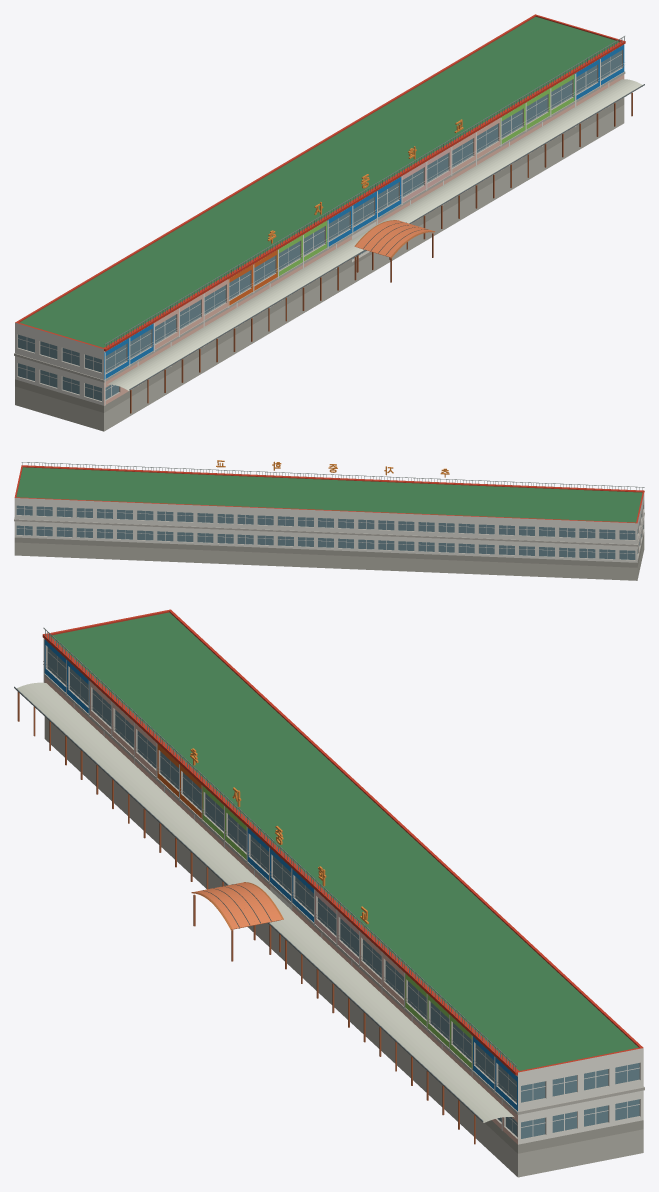
The picture shows the model from 3 angles, top to bottom: view 1: azimuth 30°, elevation 25°; view 2: azimuth 150°, elevation 25°; view 3: azimuth 270°, elevation 25°; orthographic projection. The views are drawn at different scales.
Visible parts, largest first — view 1: wing1__roof, chuja__retaining-concrete, wing1__glass, chuja__canopy-sheet, wing1__base-stone, wing1__trim-concrete, wing1__front-panel-peach, wing1__frame, wing1__wall-plaster, wing1__parapet-concrete, chuja__roof-edge, wing1__front-panel-blue (+7 smaller); view 2: wing1__roof, wing1__wall-plaster, wing1__glass, chuja__retaining-concrete, wing1__base-stone, wing1__trim-concrete, wing1__parapet-concrete, wing1__frame, chuja__roof-railing, chuja__roof-edge, chuja__roof-school-letters; view 3: wing1__roof, chuja__canopy-sheet, wing1__glass, chuja__retaining-concrete, wing1__wall-plaster, wing1__trim-concrete, wing1__parapet-concrete, wing1__front-panel-peach, wing1__frame, chuja__roof-edge, chuja__roof-railing, chuja__arch-membrane (+5 smaller).
Part boxes in pixels (x1,y1,x2,y2): wing1__roof: (19, 17, 619, 347); chuja__retaining-concrete: (15, 105, 624, 431); wing1__glass: (18, 50, 621, 400); chuja__canopy-sheet: (107, 79, 642, 390); wing1__base-stone: (15, 98, 624, 412); wing1__trim-concrete: (14, 49, 625, 401); wing1__front-panel-peach: (104, 74, 624, 405); wing1__frame: (18, 54, 624, 405); wing1__wall-plaster: (15, 221, 376, 405); wing1__parapet-concrete: (15, 14, 623, 348); chuja__roof-edge: (104, 41, 625, 351); wing1__front-panel-blue: (104, 44, 624, 379); wing1__roof: (16, 467, 642, 522); wing1__wall-plaster: (14, 493, 644, 562); wing1__glass: (16, 505, 643, 559); chuja__retaining-concrete: (14, 537, 644, 580); wing1__base-stone: (14, 532, 644, 567); wing1__trim-concrete: (14, 500, 644, 560); wing1__parapet-concrete: (14, 466, 644, 523); wing1__frame: (17, 506, 634, 559); chuja__roof-railing: (21, 462, 644, 490); chuja__roof-edge: (21, 465, 644, 491); chuja__roof-school-letters: (216, 460, 449, 477); wing1__roof: (50, 612, 638, 1070); chuja__canopy-sheet: (17, 682, 514, 1122); wing1__glass: (47, 647, 639, 1138); chuja__retaining-concrete: (44, 717, 643, 1177); wing1__wall-plaster: (270, 886, 643, 1144); wing1__trim-concrete: (44, 645, 644, 1139); wing1__parapet-concrete: (45, 609, 643, 1072); wing1__front-panel-peach: (44, 677, 517, 1144); wing1__frame: (43, 639, 639, 1136); chuja__roof-edge: (42, 634, 517, 1075); chuja__roof-railing: (43, 627, 516, 1071); chuja__arch-membrane: (191, 882, 283, 929).
Size of the model in its own units: 99.31 by 12.88 by 56.6.
